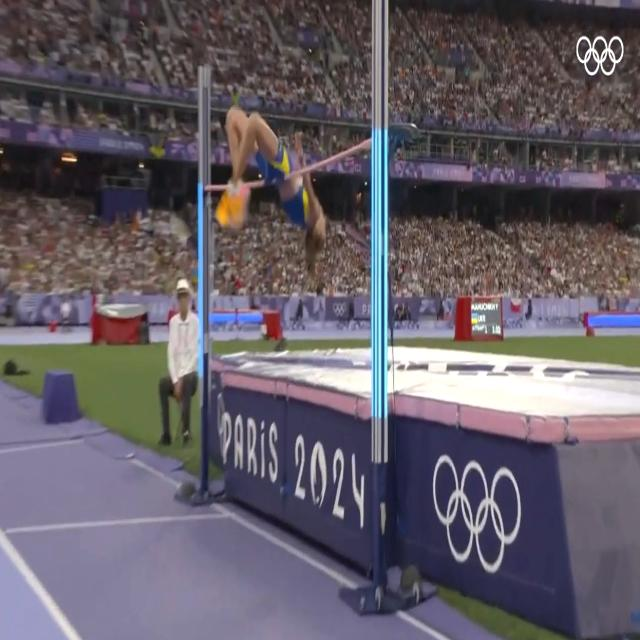jump: (213, 105, 328, 277)
